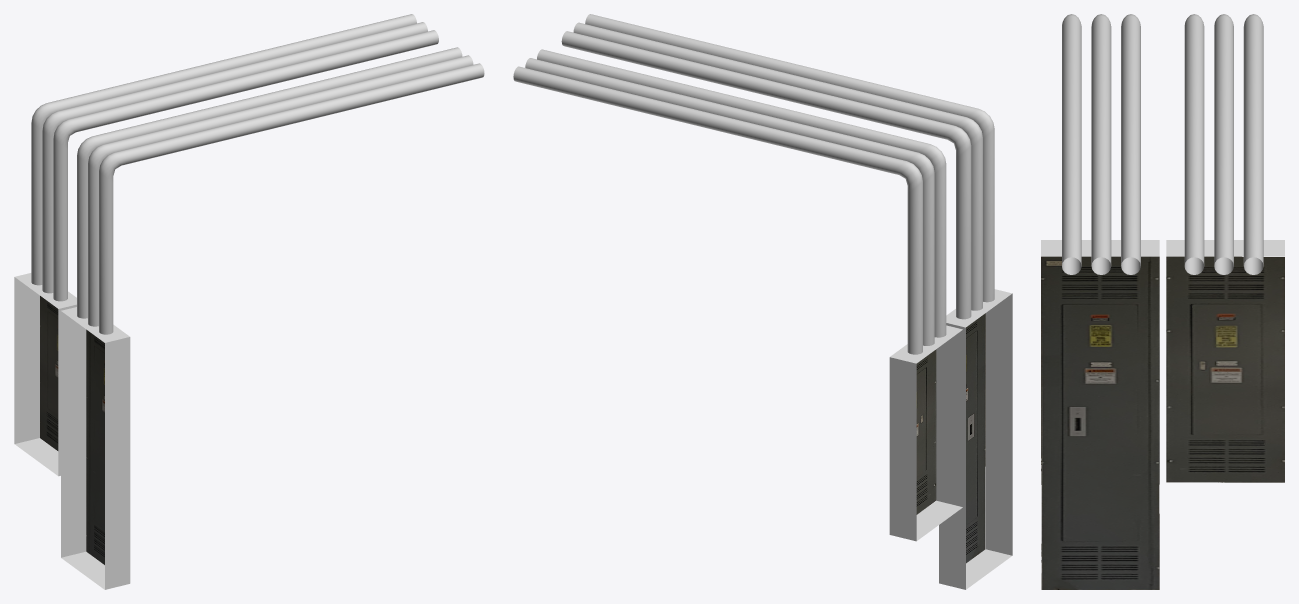
File: control panels1.fbx
The picture shows the model from 3 angles, left to right: view 1: azimuth 30°, elevation 25°; view 2: azimuth 150°, elevation 25°; view 3: azimuth 270°, elevation 25°; orthographic projection. The views are drawn at different scales.
Visible parts, largest first — view 1: Elbow Joint, Elbow Joint.001, Cube, Cube.001; view 2: Elbow Joint, Elbow Joint.001, Cube, Cube.001; view 3: Cube, Cube.001, Elbow Joint, Elbow Joint.001.
Part boxes in pixels (x1,y1,x2,y2): Elbow Joint: [31, 14, 438, 301]; Elbow Joint.001: [77, 47, 484, 334]; Cube: [61, 307, 130, 589]; Cube.001: [14, 273, 76, 476]; Elbow Joint: [513, 49, 946, 354]; Elbow Joint.001: [561, 14, 994, 319]; Cube: [939, 289, 1012, 589]; Cube.001: [889, 325, 963, 541]; Cube: [1041, 240, 1159, 589]; Cube.001: [1166, 240, 1284, 482]; Elbow Joint: [1184, 14, 1263, 274]; Elbow Joint.001: [1062, 14, 1140, 274].
Bounding box in the file's own units: 310 × 324 × 125.
